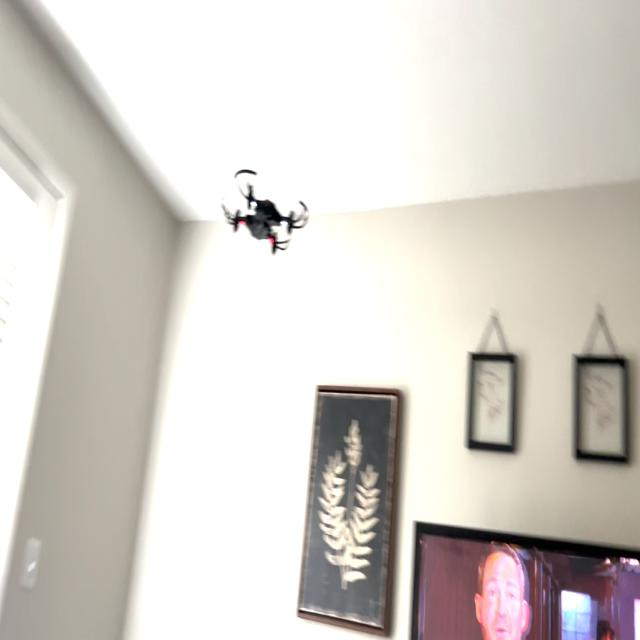drone: (216, 153, 312, 262)
